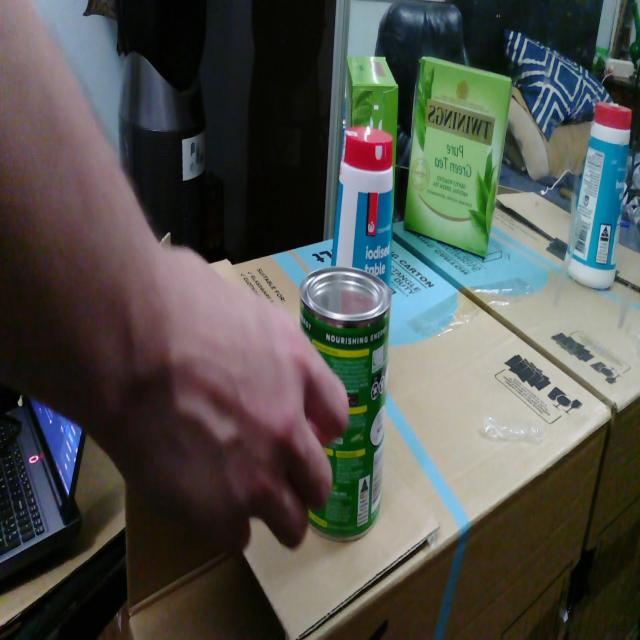nestle_milo_tin: (300, 265, 392, 541)
twinings_greentea_box: (346, 57, 398, 212)
woolworths_salt_bottle: (331, 126, 393, 288)
